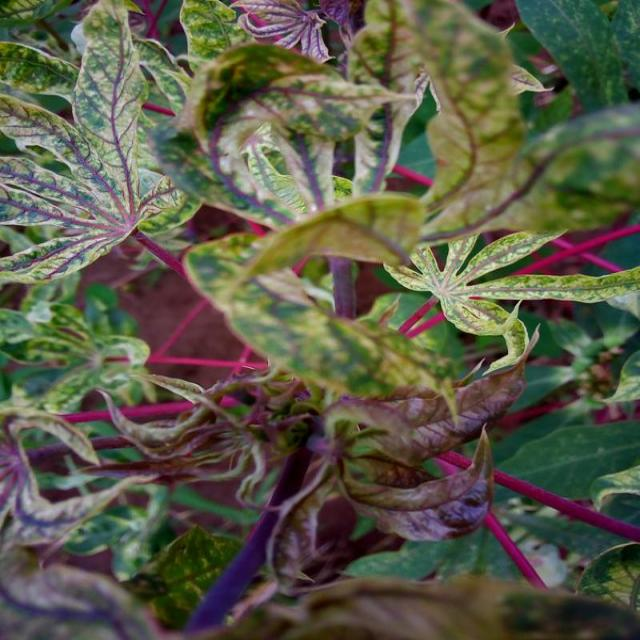cassava leaf: (0, 1, 638, 636), (0, 0, 186, 285)
